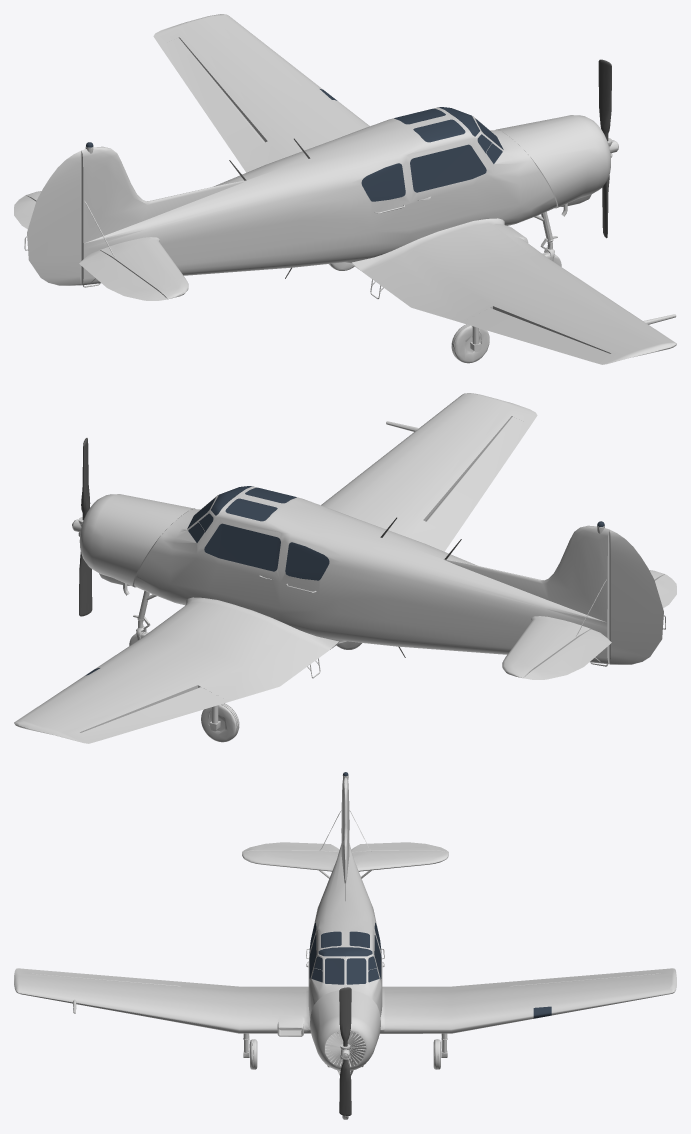
3 renders of one model, top to bottom at view 1: azimuth 30°, elevation 25°; view 2: azimuth 150°, elevation 25°; view 3: azimuth 270°, elevation 25°, orthographic. The views are drawn at different scales.
Visible parts, largest first — view 1: body, glass, spin; view 2: body, glass, spin; view 3: body, glass, spin.
Boxes of the visible parts, left/top/right/bottom form: body: left=14, top=14, right=676, bottom=364; glass: left=86, top=89, right=503, bottom=201; spin: left=598, top=59, right=611, bottom=238; body: left=14, top=393, right=676, bottom=743; glass: left=85, top=486, right=604, bottom=675; spin: left=79, top=438, right=92, bottom=616; body: left=14, top=775, right=676, bottom=1119; glass: left=309, top=772, right=551, bottom=1018; spin: left=339, top=987, right=351, bottom=1115.
Size of the model in its own units: 1.66 by 0.6731 by 2.2.
